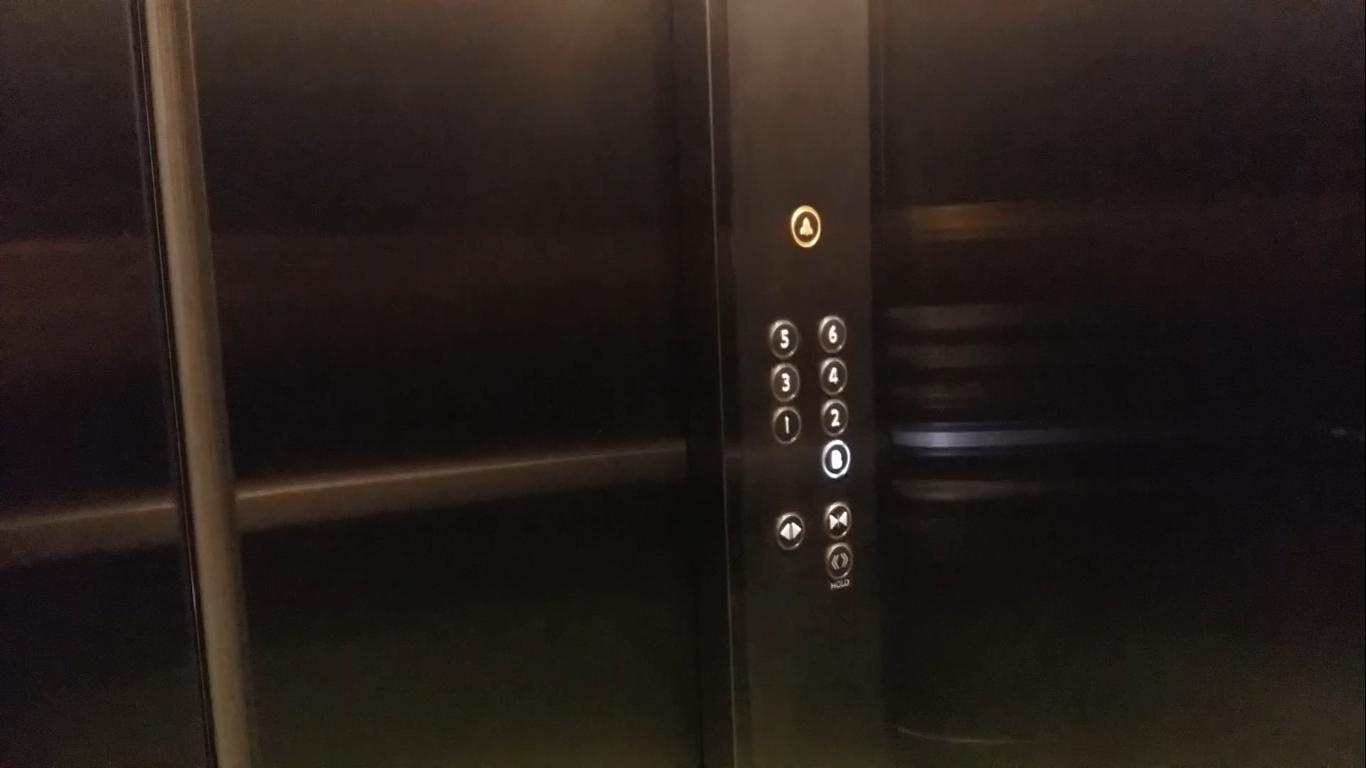1: (770, 405, 801, 446)
2: (818, 399, 850, 438)
3: (767, 362, 801, 402)
4: (818, 356, 849, 398)
5: (767, 318, 800, 358)
6: (816, 314, 848, 356)
alarm: (789, 204, 823, 248)
blur: (818, 438, 851, 481)
close: (822, 501, 854, 541)
open: (773, 511, 809, 553), (822, 542, 854, 580)
